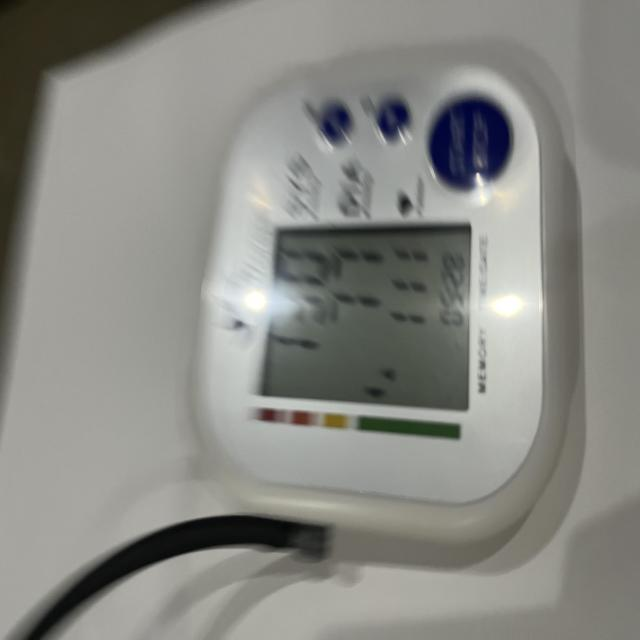bp: (190, 39, 582, 515)
